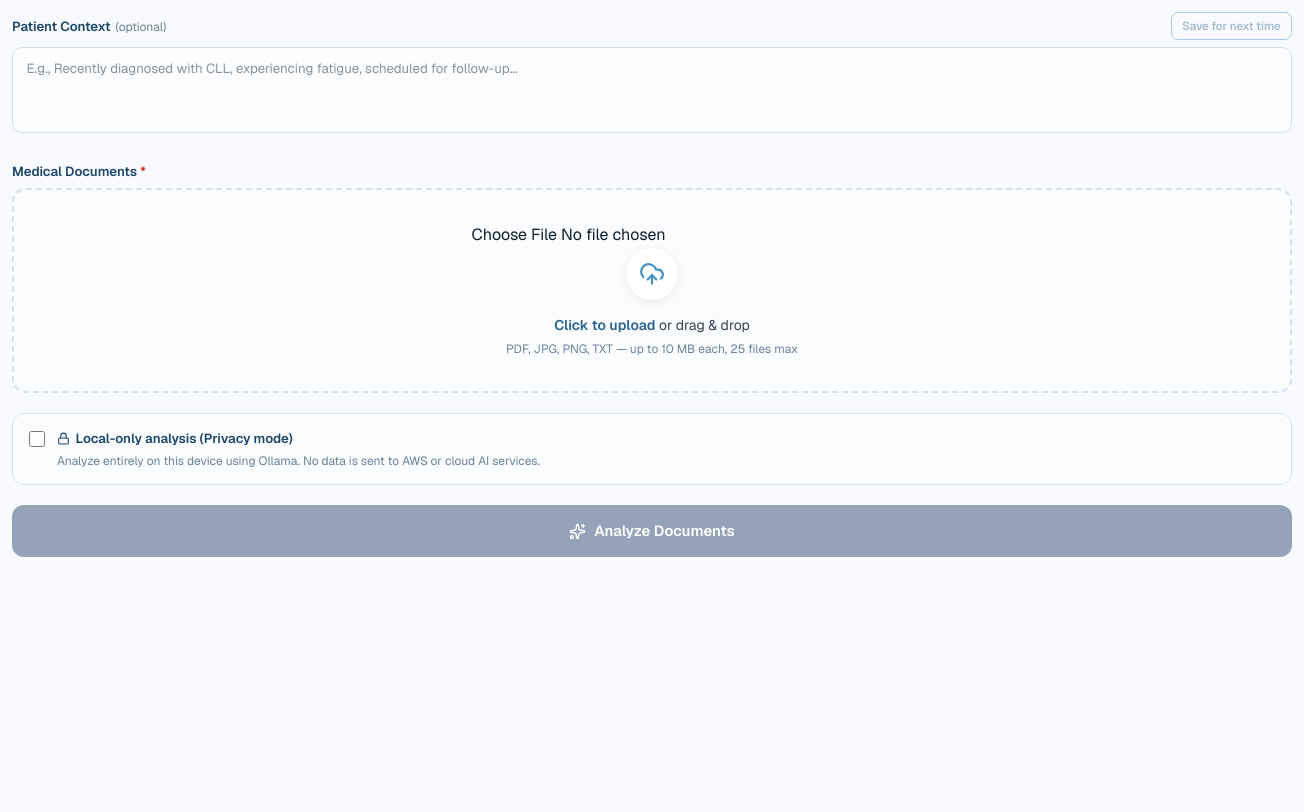
it: FileUpload › save button is enabled after typing new context
Type "new context" into the text box labelled "Patient Context(optional)" at (652, 90), box x1=12 y1=47 x2=1292 y2=133
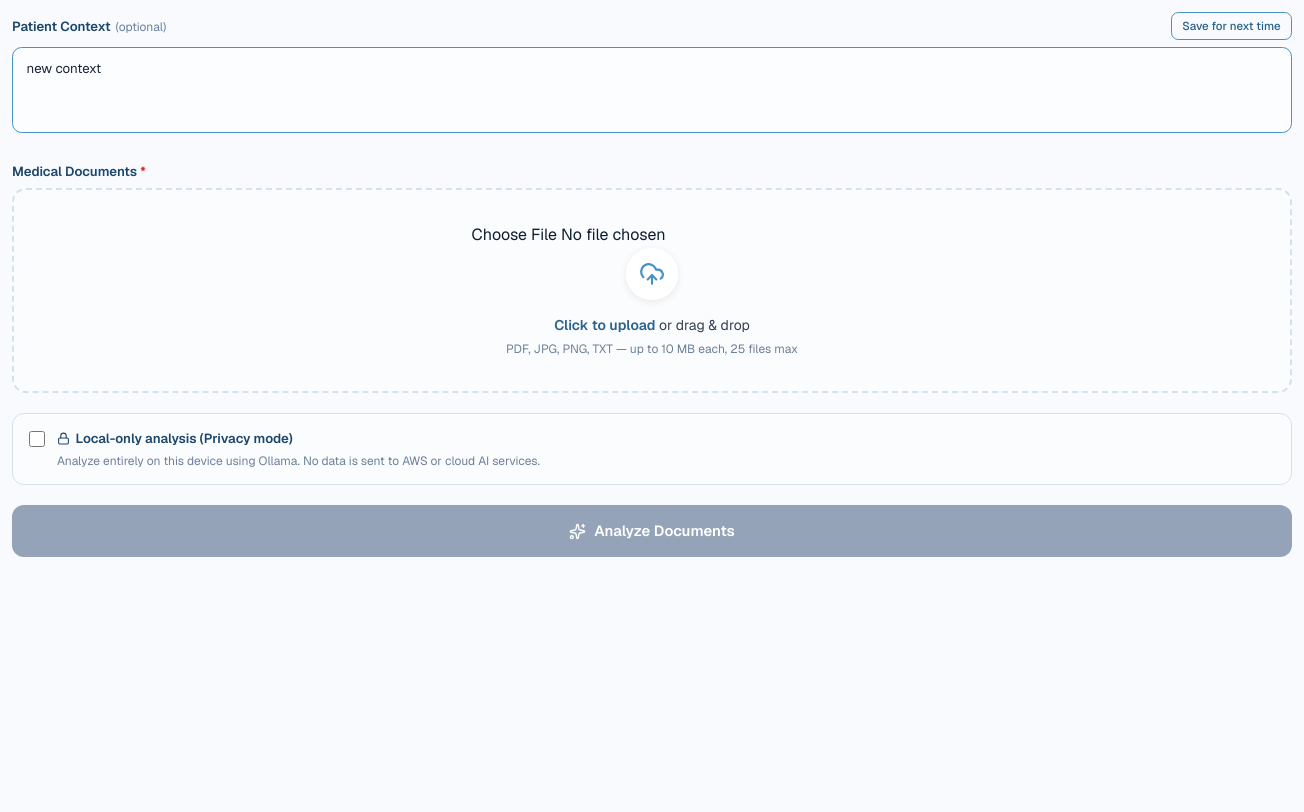
Check: the button "Save for next time" is enabled, box x1=1171 y1=12 x2=1292 y2=40
